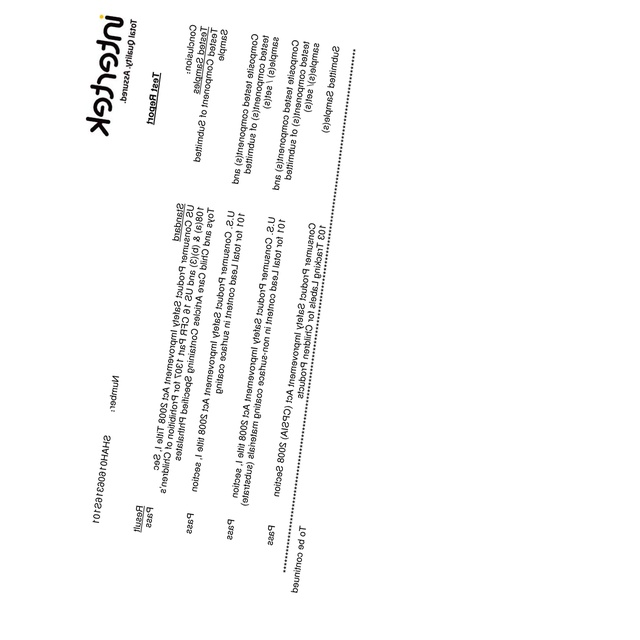intertek: (83, 11, 127, 138)
